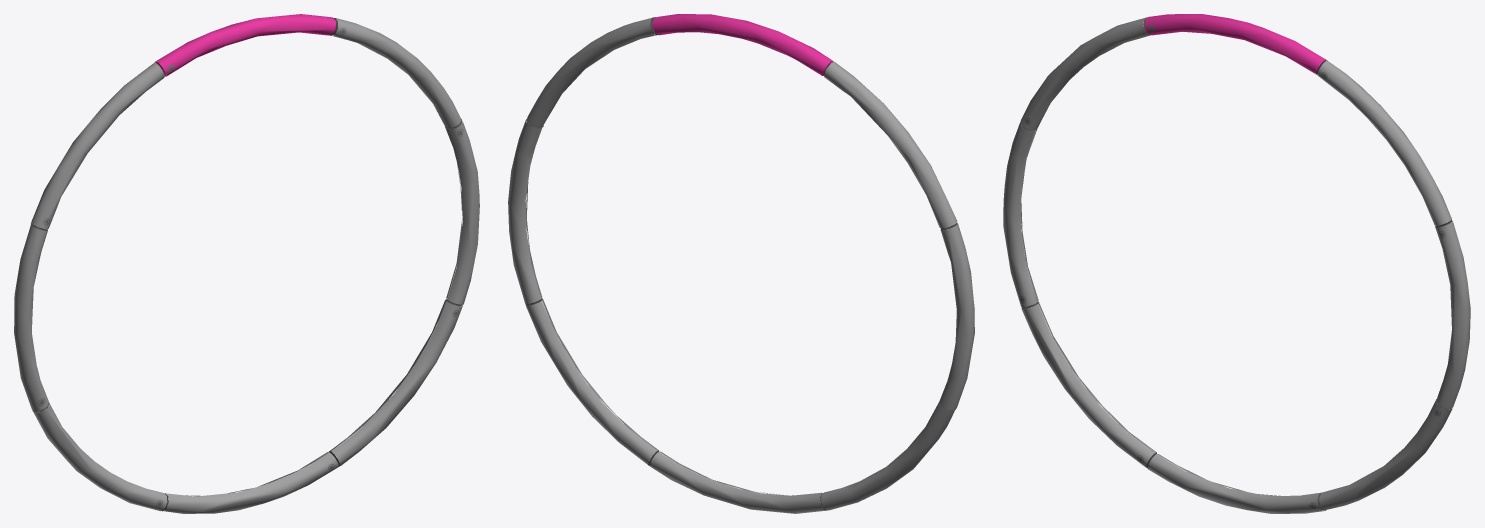
File: hula.gltf
3 views of the same model, side by side, from view 1: azimuth 30°, elevation 25°; view 2: azimuth 150°, elevation 25°; view 3: azimuth 330°, elevation 25° (orthographic).
Parts seen in each view (by area): view 1: hula; view 2: hula; view 3: hula.
Part boxes in pixels (x1,y1,x2,y2): hula: [14, 14, 479, 513]; hula: [508, 14, 974, 513]; hula: [1003, 14, 1470, 513].
Bounding box in the file's own units: 97.36 × 97.39 × 3.46.
1 material, 1 textured.
